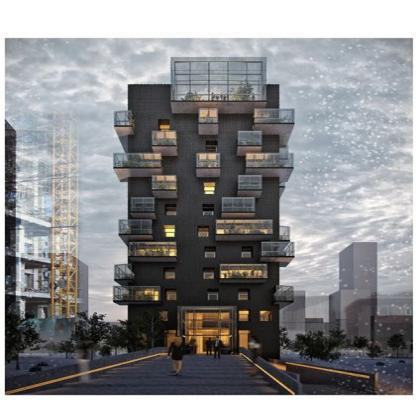Building Outline: (111, 56, 296, 360)
Door: (195, 336, 219, 354)
Facade: (111, 56, 297, 360)
Floor Slab: (240, 330, 251, 350)
Glass Wall: (170, 57, 266, 101), (177, 306, 237, 354), (216, 220, 272, 234), (220, 264, 267, 278), (114, 287, 160, 301), (118, 220, 154, 237), (246, 154, 292, 167), (113, 154, 159, 167), (256, 110, 293, 123), (262, 242, 293, 256), (222, 198, 254, 211), (114, 263, 135, 281), (272, 285, 293, 302), (152, 176, 177, 190), (238, 176, 262, 190), (196, 154, 220, 167), (238, 132, 262, 145), (132, 198, 154, 212), (153, 131, 176, 144), (114, 110, 132, 125), (200, 109, 217, 121), (280, 226, 289, 240), (279, 147, 287, 158), (279, 174, 285, 186)
Window: (165, 330, 176, 350), (204, 183, 214, 194), (239, 310, 249, 321), (260, 311, 271, 321), (204, 270, 214, 279), (159, 311, 168, 321), (203, 207, 214, 215), (167, 291, 176, 300), (166, 270, 175, 279), (167, 208, 177, 216), (208, 292, 218, 300), (242, 249, 251, 257), (165, 229, 175, 236), (205, 250, 215, 257), (198, 229, 208, 236), (239, 292, 248, 299), (161, 125, 170, 131), (206, 146, 216, 151)
